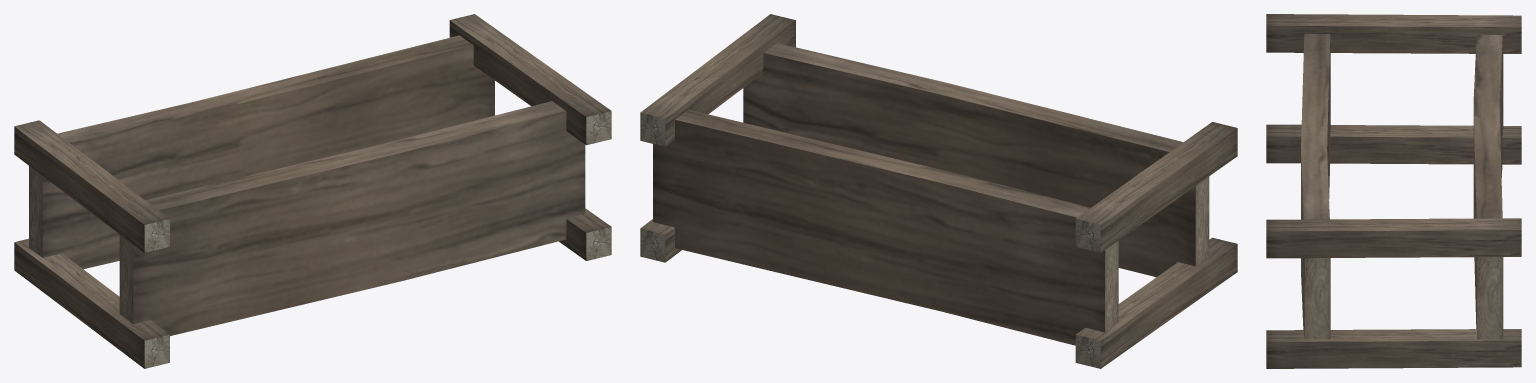
Rendered from Shelf_B.fbx.
3 renders of one model, left to right at view 1: azimuth 30°, elevation 25°; view 2: azimuth 150°, elevation 25°; view 3: azimuth 270°, elevation 25°, orthographic. The views are drawn at different scales.
Visible parts, largest first — view 1: Shelf_B; view 2: Shelf_B; view 3: Shelf_B.
Boxes of the visible parts, x1,y1,x2,y2 form: Shelf_B: (14,14,611,368); Shelf_B: (640,14,1237,368); Shelf_B: (1266,14,1521,368).
Size of the model in its own units: 3.37 by 0.9931 by 1.67.
